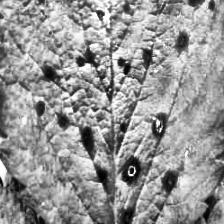Leaf Spot: (0, 0, 224, 224), (0, 159, 97, 224), (144, 169, 224, 224)
